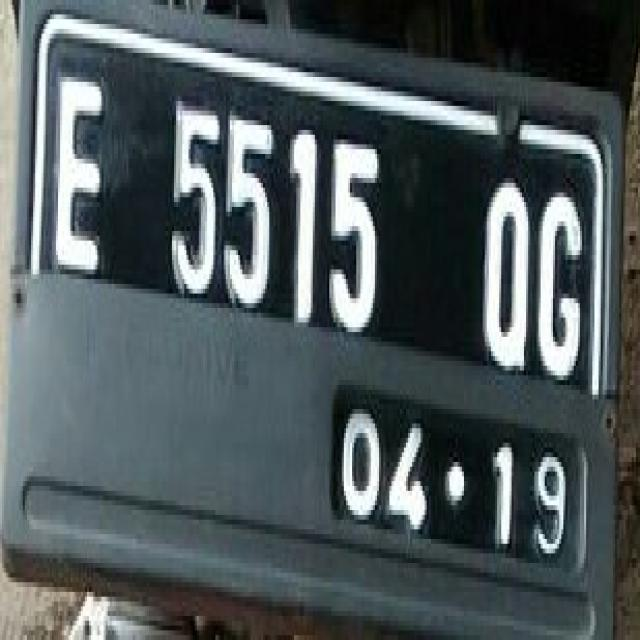plate: (27, 1, 605, 579)
